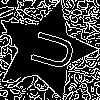U: (20, 25, 77, 74)
